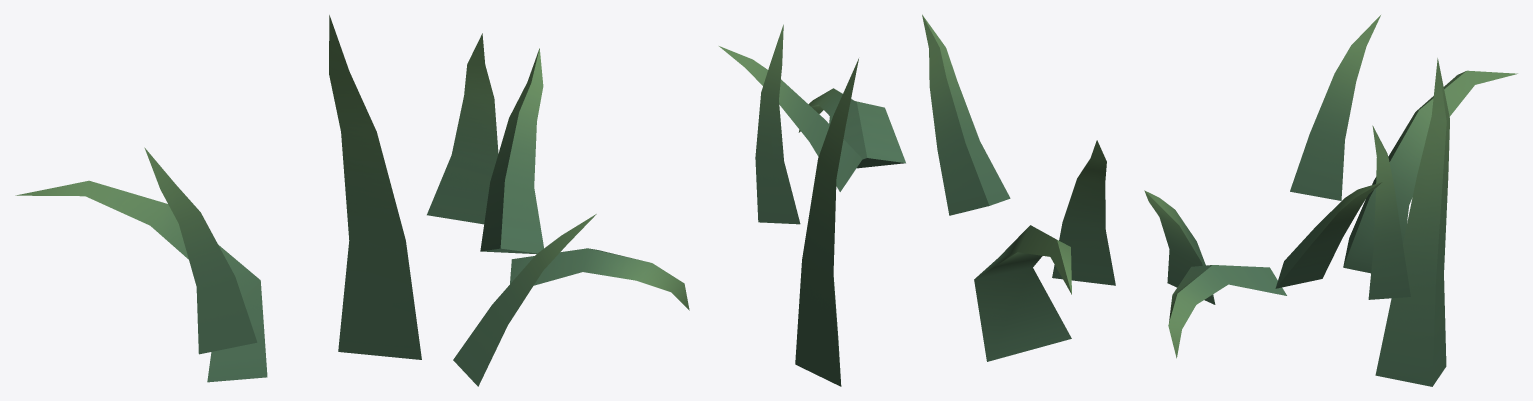
Rendered from grass_patch_03.fbx.
3 views of the same model, side by side, from view 1: azimuth 30°, elevation 25°; view 2: azimuth 150°, elevation 25°; view 3: azimuth 270°, elevation 25° (orthographic). The views are drawn at different scales.
Visible parts, largest first — view 1: grasspatch3; view 2: grasspatch3; view 3: grasspatch3.
Part boxes in pixels (box(x1,y1,x2,y2)): grasspatch3: box(15, 15, 689, 386); grasspatch3: box(719, 14, 1115, 386); grasspatch3: box(1144, 15, 1517, 386).
Size of the model in its own units: 0.0905 by 0.062 by 0.0695.
Materials: 1 (1 with a texture image).
